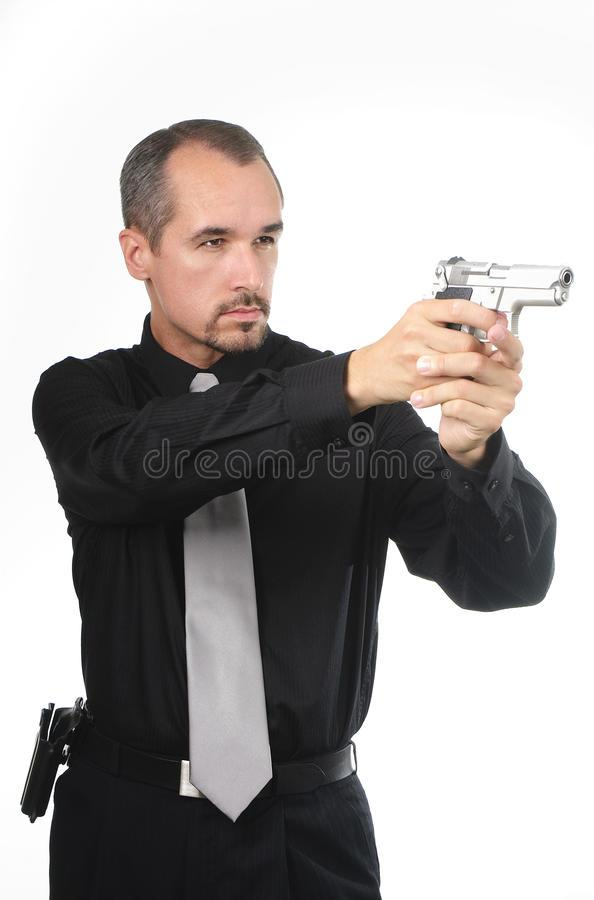criminal: (21, 112, 580, 900)
weapon: (430, 250, 578, 362)
